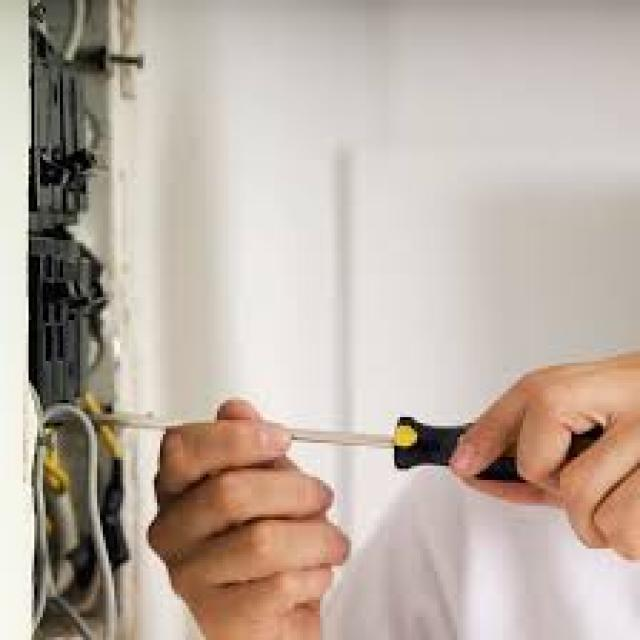screwdriver: (76, 400, 573, 494)
